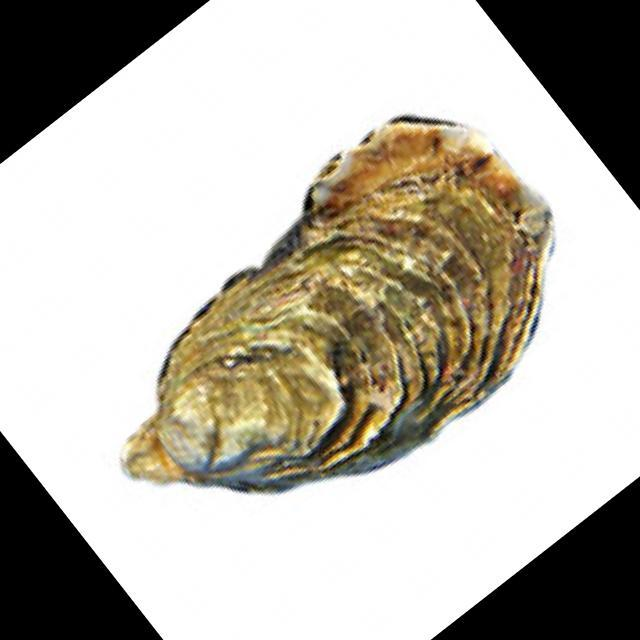Oyster- Indeterminate: (120, 115, 555, 496)
